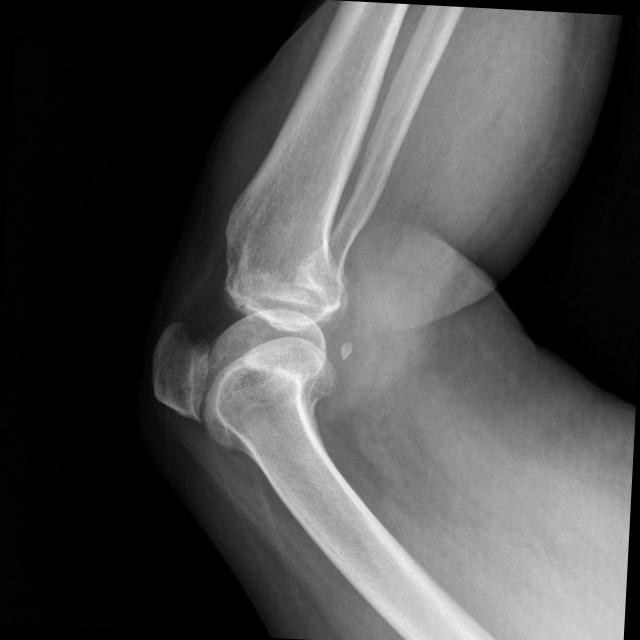Knee: (150, 217, 353, 436)
